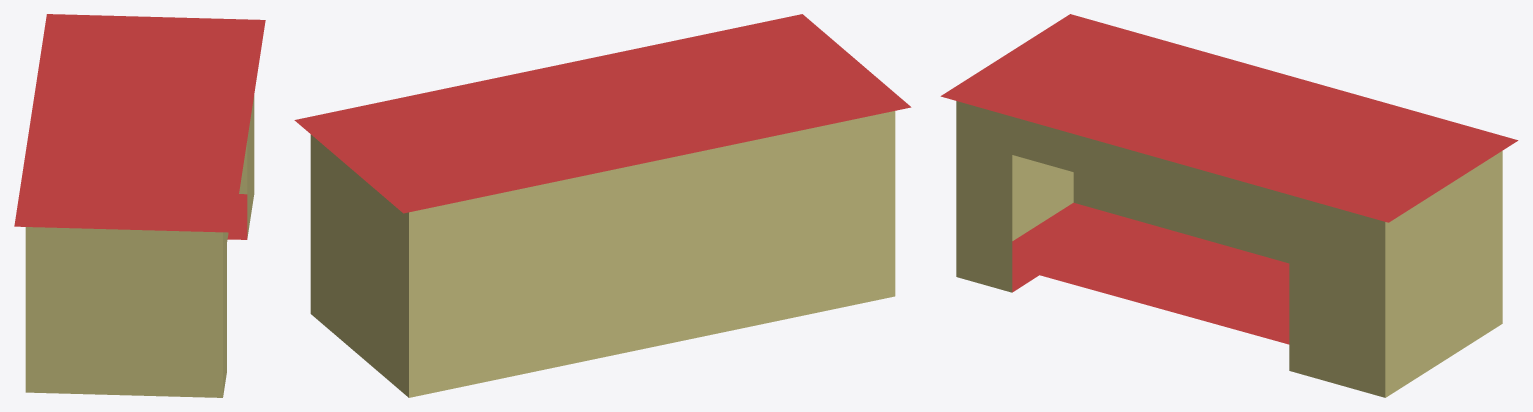
The picture shows the model from 3 angles, left to right: view 1: azimuth 30°, elevation 25°; view 2: azimuth 150°, elevation 25°; view 3: azimuth 270°, elevation 25°; orthographic projection. The views are drawn at different scales.
Visible parts, largest first — view 1: group_3, group_5, group_4, group_6; view 2: group_5, group_3, group_4; view 3: group_5, group_3, group_6, group_4.
Part boxes in pixels (x1,y1,x2,y2): group_3: (14,14,265,232); group_5: (25,95,254,397); group_4: (15,14,264,232); group_6: (227,194,247,239); group_5: (310,111,895,397); group_3: (294,14,911,213); group_4: (295,14,910,213); group_5: (956,101,1502,397); group_3: (940,14,1517,222); group_6: (1012,202,1289,344); group_4: (941,14,1517,222).
Size of the model in its own units: 32.12 by 37.61 by 13.05.
